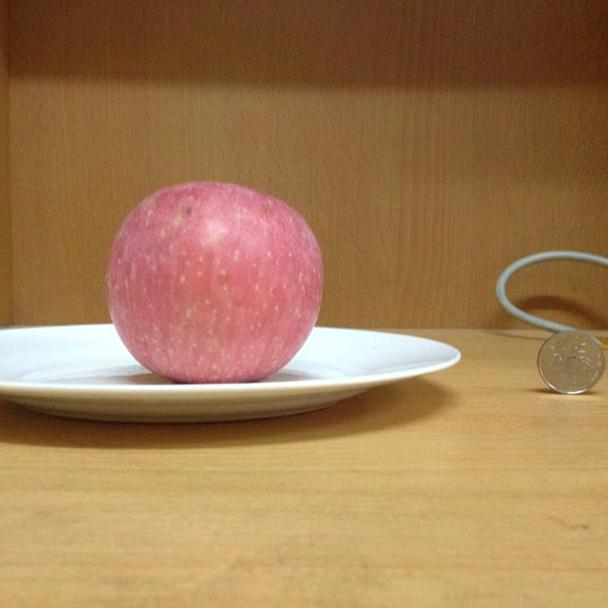apple: (106, 181, 324, 385)
